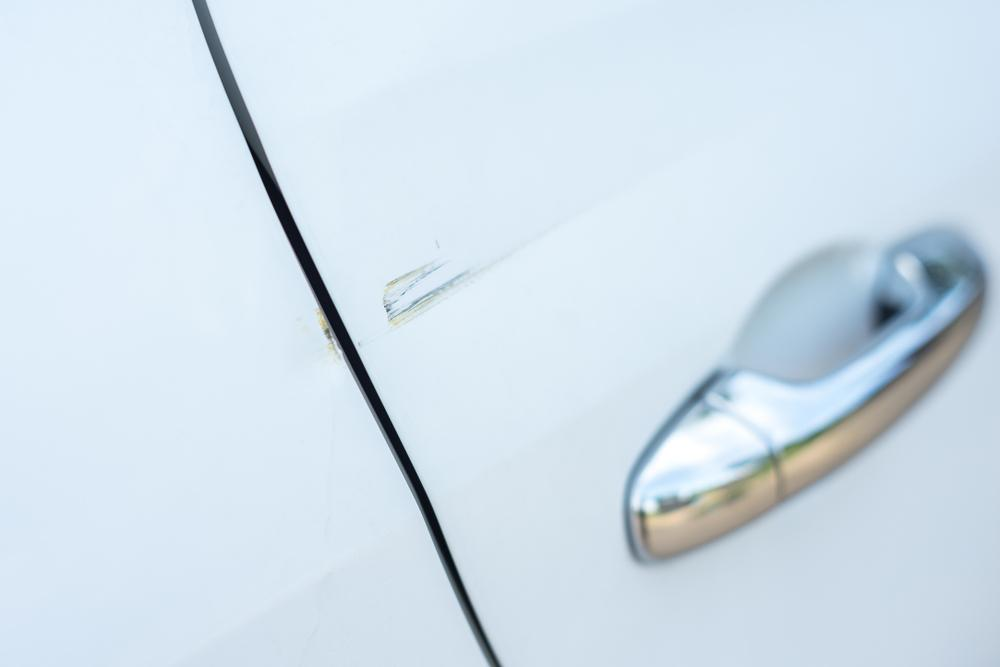scratch: (382, 211, 584, 333)
